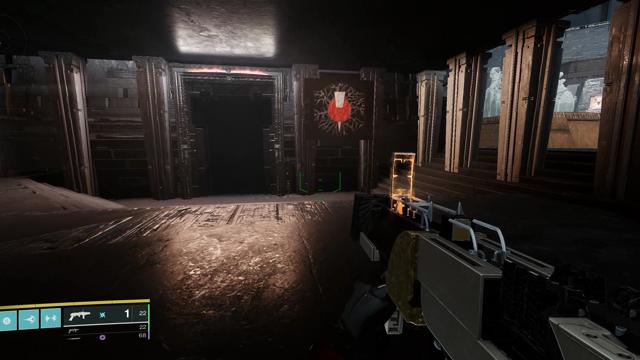kill: (313, 83, 365, 136)
